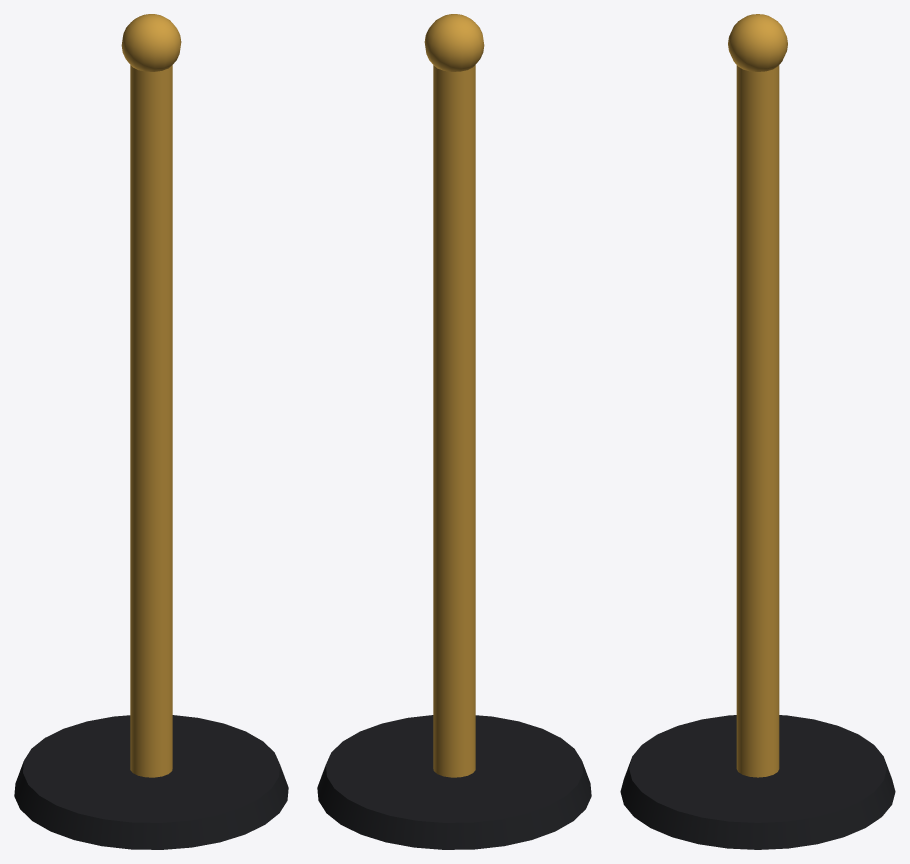
Rendered from queue-stanchion.glb.
3 renders of one model, left to right at view 1: azimuth 30°, elevation 25°; view 2: azimuth 150°, elevation 25°; view 3: azimuth 270°, elevation 25°, orthographic.
Visible parts, largest first — view 1: brass, blackPlastic; view 2: brass, blackPlastic; view 3: brass, blackPlastic.
Part boxes in pixels (x1=…): brass: x1=121, y1=14, x2=181, y2=777; blackPlastic: x1=14, y1=715, x2=288, y2=849; brass: x1=424, y1=14, x2=484, y2=777; blackPlastic: x1=317, y1=715, x2=591, y2=849; brass: x1=728, y1=14, x2=787, y2=777; blackPlastic: x1=620, y1=715, x2=895, y2=849.
Size of the model in its own units: 0.32 by 0.995 by 0.32.
